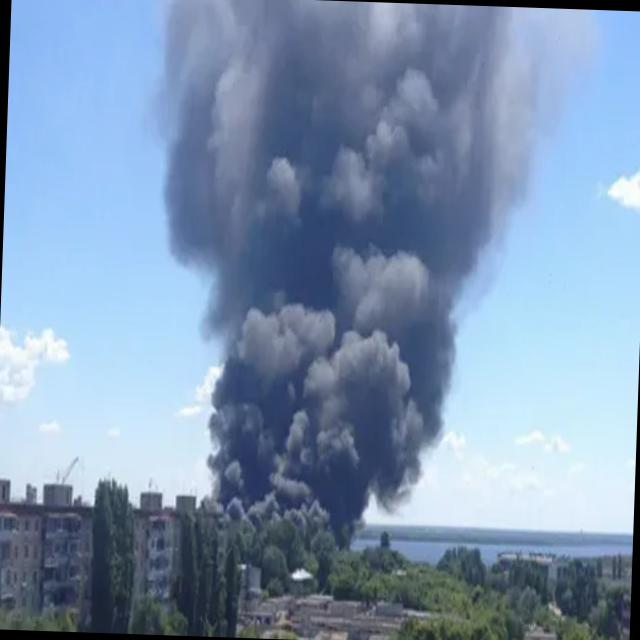Smoke: (136, 0, 545, 545)
